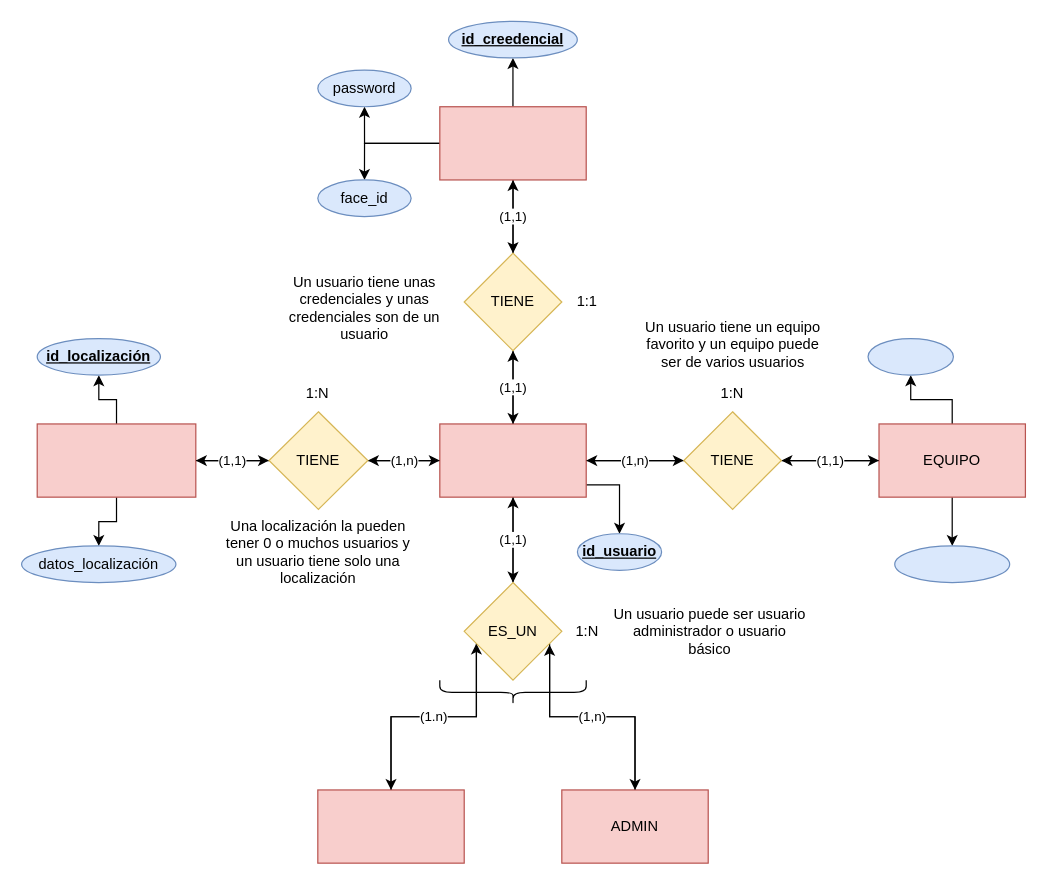
Image size: 1047x885. Some labels were removed from this diagram. The centre of each missing label's shape, as x and y in pixels:
"BÁSICO" belongs at [390,826].
"CREDENCIALES" belongs at [512,143].
"datos_equipo" belongs at [952,564].
"id_equipo" belongs at [910,356].
"LOCALIZACIÓN" belongs at [116,460].
"USUARIO" belongs at [512,460].
